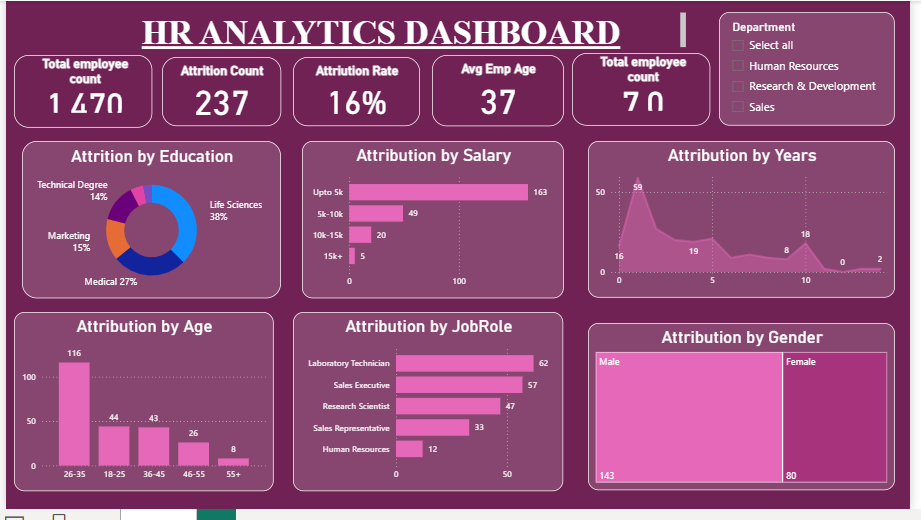

The dashboard page shown, as its layout file describes it:
{"tool":"powerbi","page":{"name":"Page 1","canvas":[1280,720],"ordinal":0},"visuals":[{"type":"card","title":"Total employee count","fields":{"Values":["CountNonNull(HR_Analytics.EmployeeCount)"]},"box":[11.3,76.5,195.6,103.5],"z":0},{"type":"card","title":"Attrition Count","fields":{"Values":["Sum(HR_Analytics.AttritionCount)"]},"box":[221.1,79.4,168.7,97.8],"z":1000},{"type":"card","title":"Attriution Rate","fields":{"Values":["HR_Analytics.AttritionRate"]},"box":[406.8,79.4,180,97.8],"z":2000},{"type":"card","title":"Avg Emp Age","fields":{"Values":["Avg(HR_Analytics.Age)"]},"box":[603.8,76.5,187.1,100.6],"z":3000},{"type":"card","title":"Total employee count","fields":{"Values":["Avg(HR_Analytics.YearsAtCompany)"]},"box":[802.2,73.7,195.6,103.5],"z":4000},{"type":"donutChart","title":"Attrition by Education","fields":{"Category":["HR_Analytics.EducationField"],"Y":["Sum(HR_Analytics.AttritionCount)"]},"box":[22.7,198.4,367.1,222.5],"z":5000},{"type":"columnChart","title":"Attribution by Age","fields":{"Y":["Sum(HR_Analytics.AttritionCount)"],"Category":["HR_Analytics.AgeGroup"]},"box":[11.8,440.1,367.9,253.6],"z":6000},{"type":"barChart","title":"Attribution by Salary","fields":{"Category":["HR_Analytics.SalarySlab"],"Y":["Sum(HR_Analytics.AttritionCount)"]},"box":[419.5,198.4,371.3,222.5],"z":7000},{"type":"clusteredBarChart","title":"Attribution by JobRole","fields":{"Y":["Sum(HR_Analytics.AttritionCount)"],"Category":["HR_Analytics.JobRole"]},"box":[406.5,440.1,383,253.6],"z":8000},{"type":"areaChart","title":"Attribution by Years","fields":{"Category":["HR_Analytics.YearsAtCompany"],"Y":["Sum(HR_Analytics.AttritionCount)"]},"box":[824.8,198.2,435.1,221.7],"z":9000},{"type":"treemap","title":"Attribution by Gender","fields":{"Group":["HR_Analytics.Gender"],"Values":["Sum(HR_Analytics.AttritionCount)"]},"box":[824.8,456.9,435.1,236.9],"z":10000},{"type":"slicer","fields":{"Values":["HR_Analytics.Department"]},"box":[1011.2,15.1,248.6,161.3],"z":11000},{"type":"textbox","box":[100.8,11.8,868.5,62.2],"z":12000}]}

Visuals, with their boxes in screenshot pixels (x1, y1, x2, y2), scaled from the page's 1280x720 canvas onto the 921x520 screenshot:
"Total employee count" card: <box>8,55,149,130</box>
"Attrition Count" card: <box>159,57,280,128</box>
"Attriution Rate" card: <box>293,57,422,128</box>
"Avg Emp Age" card: <box>434,55,569,128</box>
"Total employee count" card: <box>577,53,718,128</box>
"Attrition by Education" donutChart: <box>16,143,280,304</box>
"Attribution by Age" columnChart: <box>8,318,273,501</box>
"Attribution by Salary" barChart: <box>302,143,569,304</box>
"Attribution by JobRole" clusteredBarChart: <box>292,318,568,501</box>
"Attribution by Years" areaChart: <box>593,143,907,303</box>
"Attribution by Gender" treemap: <box>593,330,907,501</box>
slicer - HR_Analytics.Department: <box>728,11,906,127</box>
textbox: <box>73,9,697,53</box>
